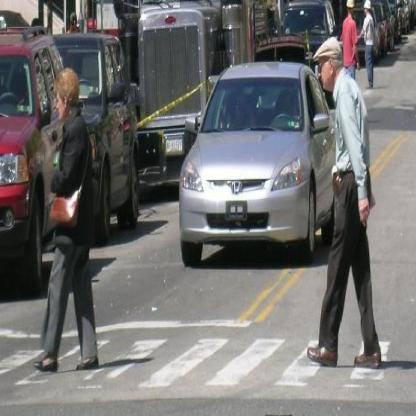person: (307, 41, 388, 367), (35, 67, 101, 373)
